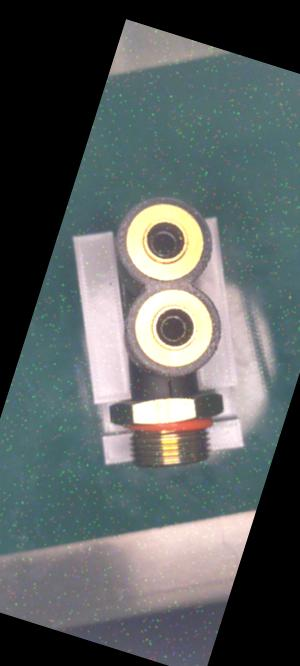craze: (160, 379, 177, 398)
